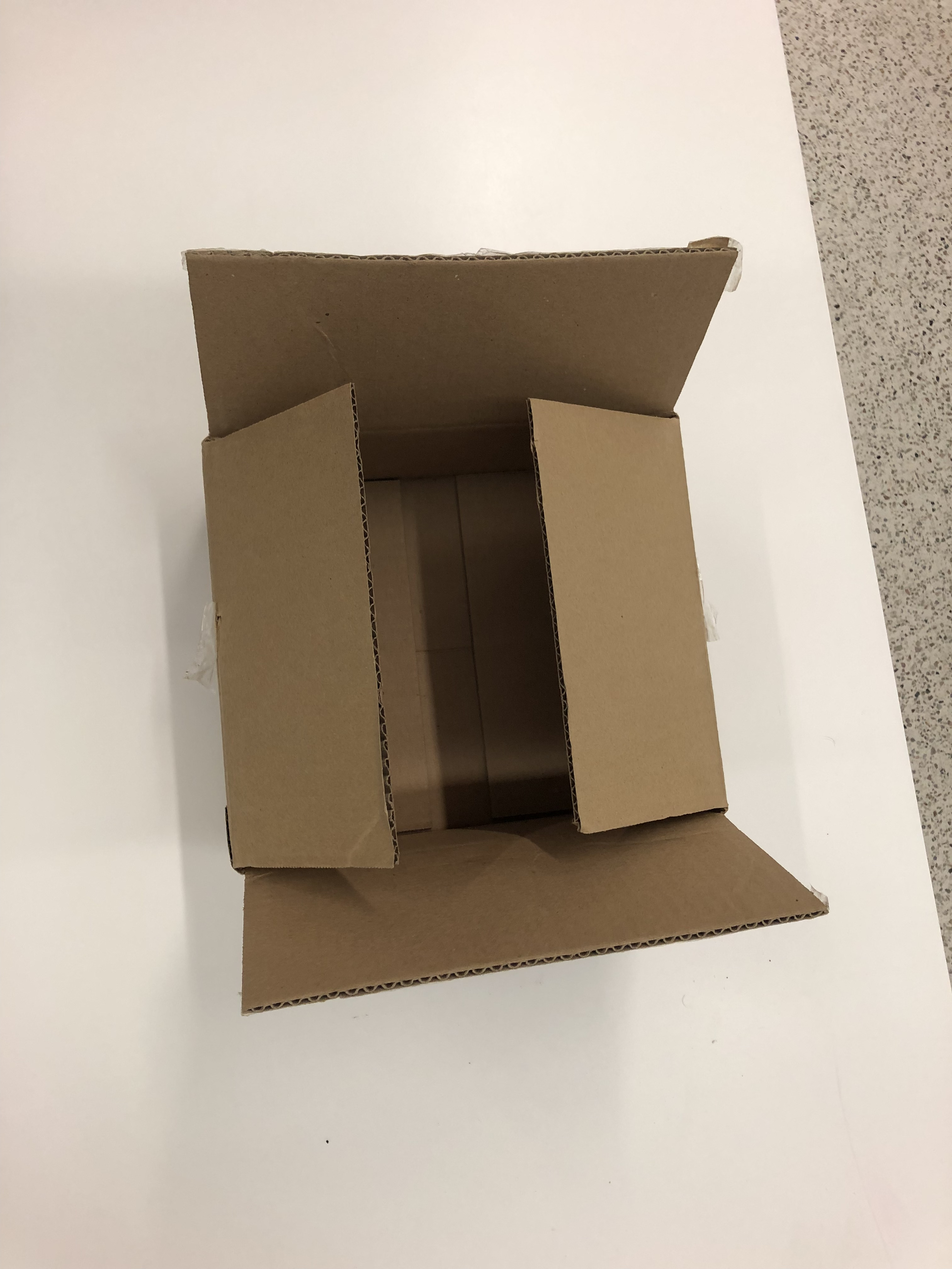box: (184, 244, 824, 1015)
crushed: (184, 245, 827, 1016)
